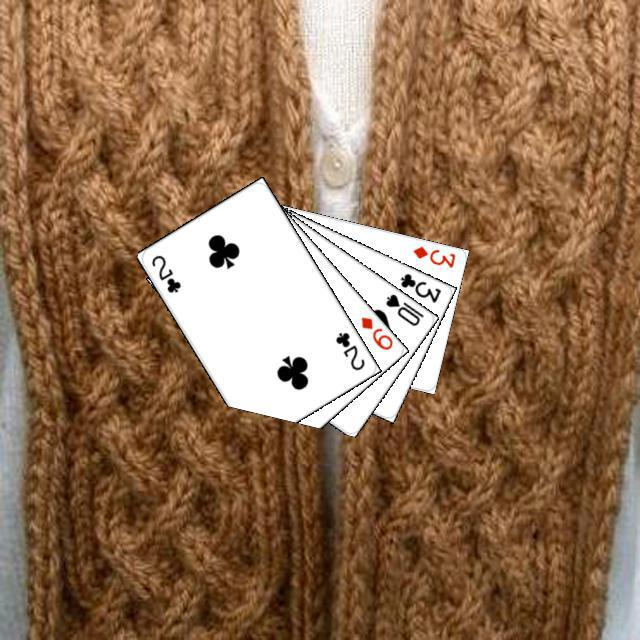10s: (380, 289, 426, 328)
2c: (146, 250, 183, 295), (330, 327, 366, 372)
3c: (395, 268, 443, 305)
3d: (408, 241, 457, 270)
9d: (356, 312, 394, 352)
